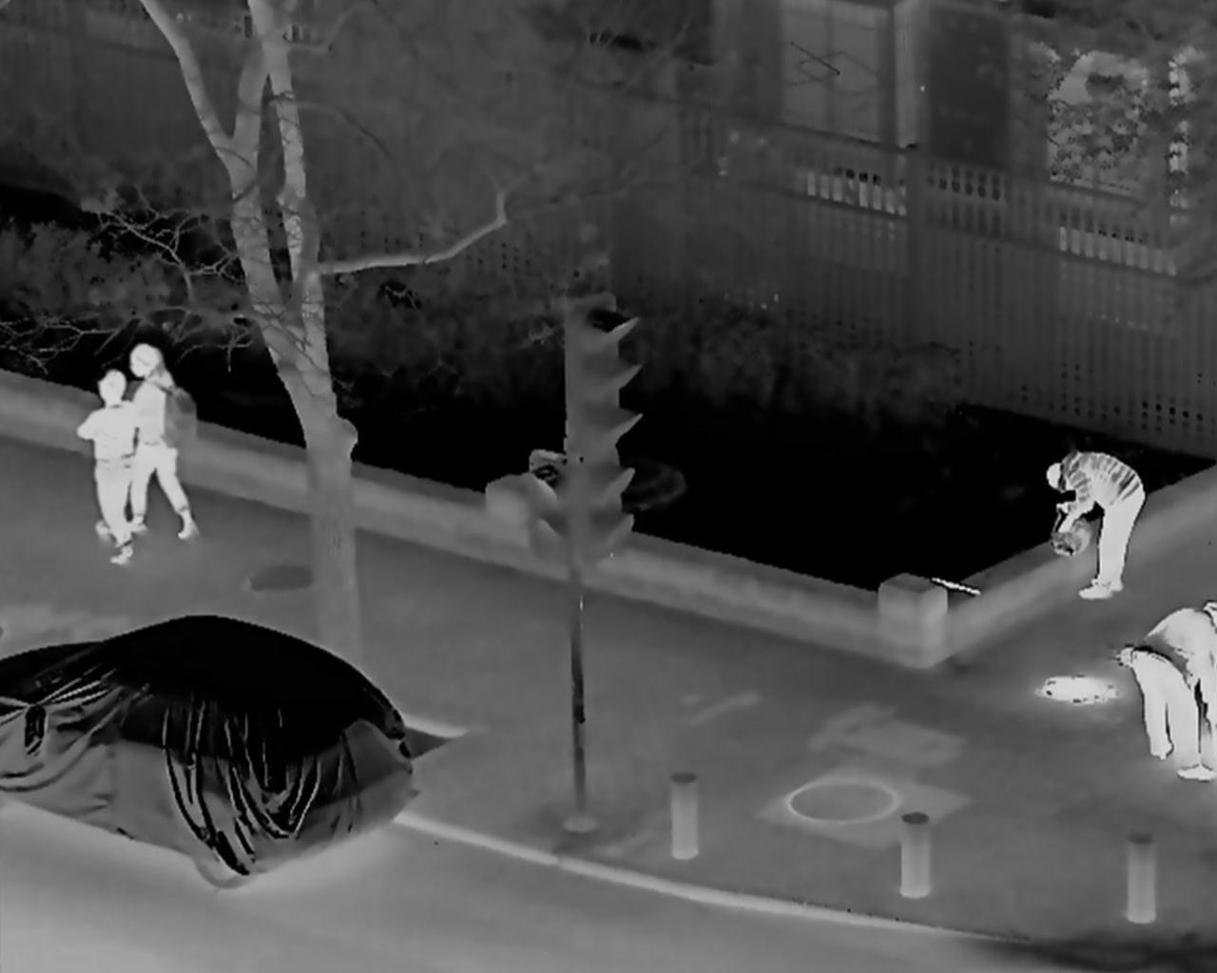person: (117, 344, 203, 539), (1041, 453, 1151, 599), (1134, 601, 1217, 779), (78, 374, 142, 562)
